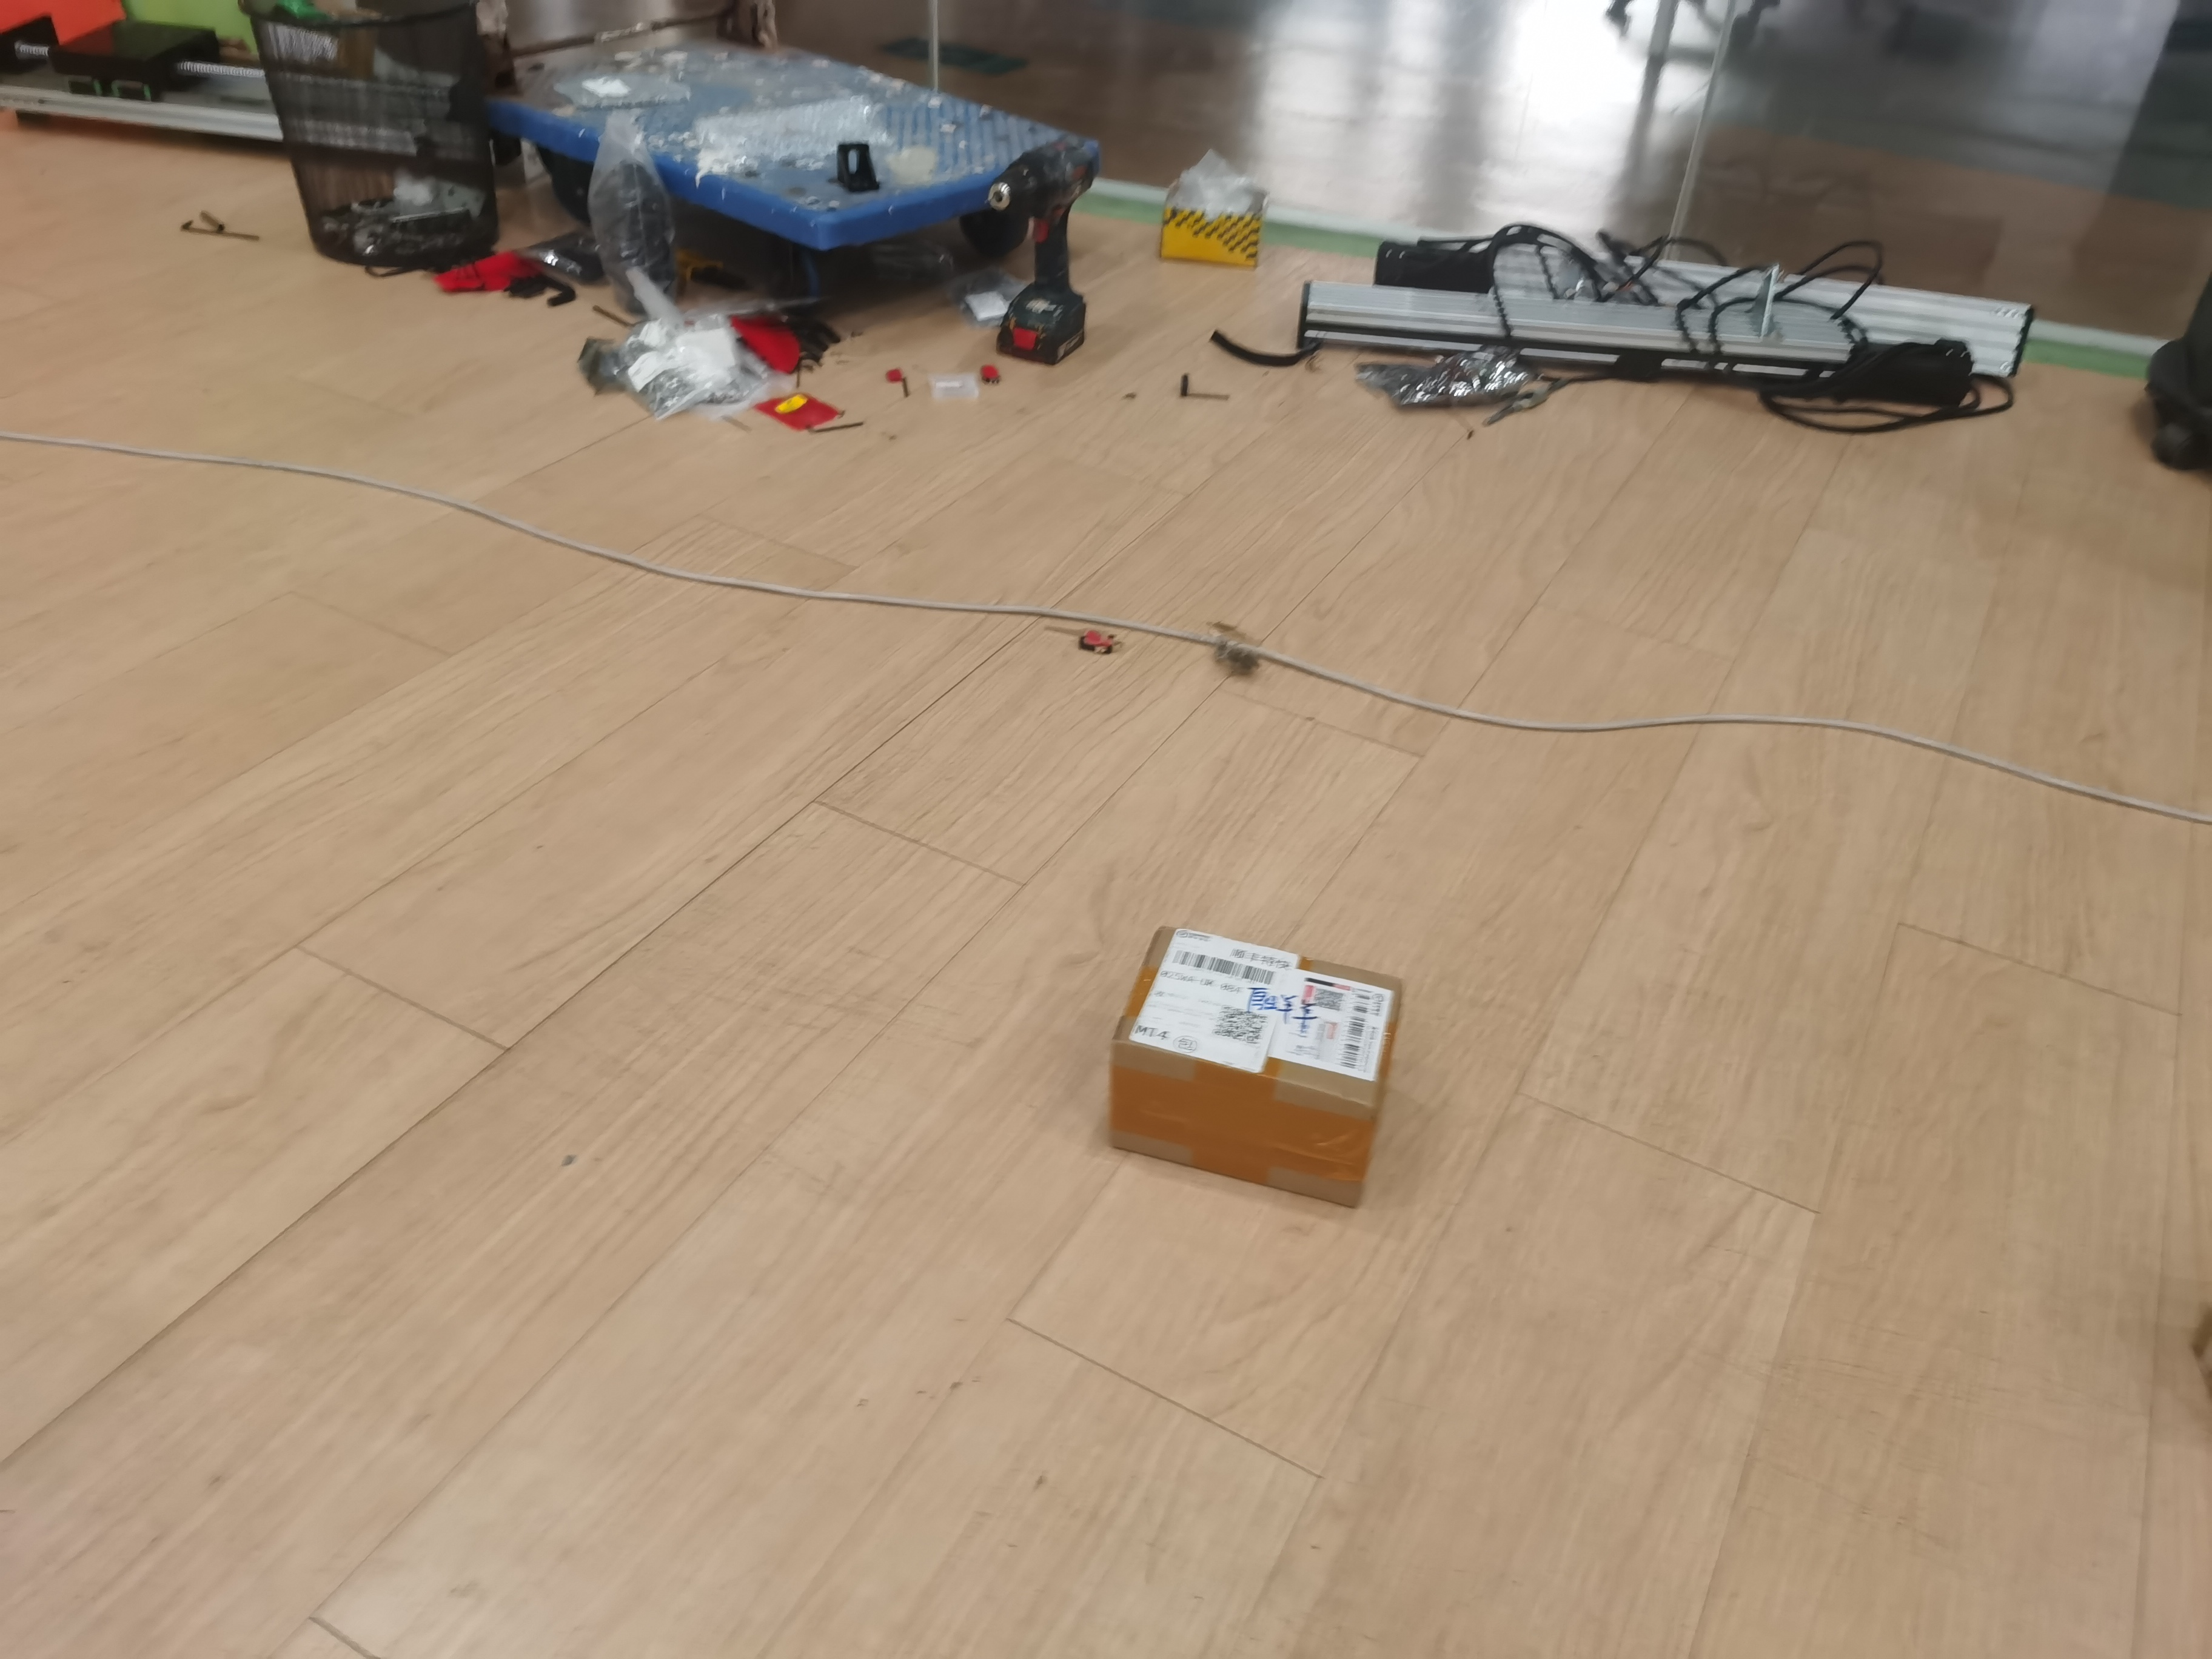box: (1104, 925, 1433, 1222)
